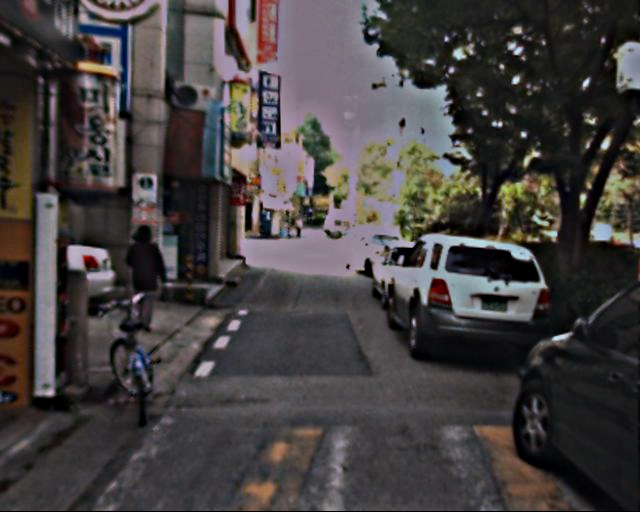person: (125, 222, 174, 328)
